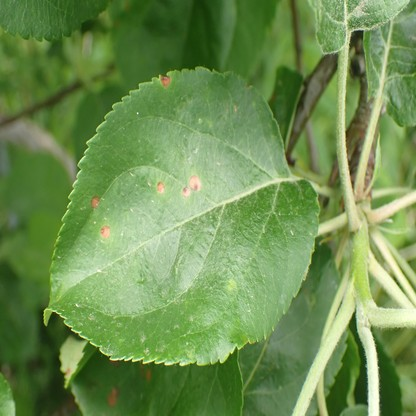frogeye_leaf_spot: (183, 175, 202, 197), (107, 386, 118, 406), (100, 225, 111, 238), (160, 77, 170, 88), (91, 196, 100, 208), (157, 182, 166, 193), (145, 369, 151, 380)
scab: (306, 292, 316, 307), (227, 280, 237, 293)
